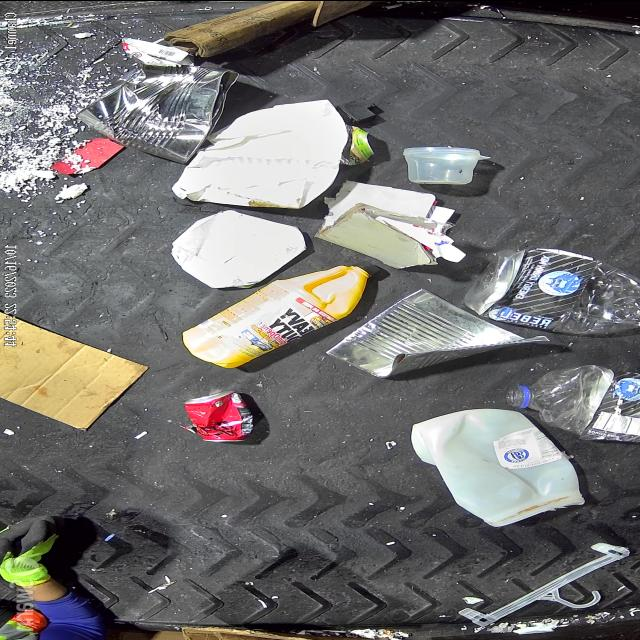can: (76, 55, 245, 159), (182, 389, 254, 442), (343, 128, 374, 164)
milk_jug: (411, 407, 586, 526)
non_white_jug: (178, 260, 380, 364)
plastic_bottle: (461, 247, 640, 334), (506, 364, 640, 442)
